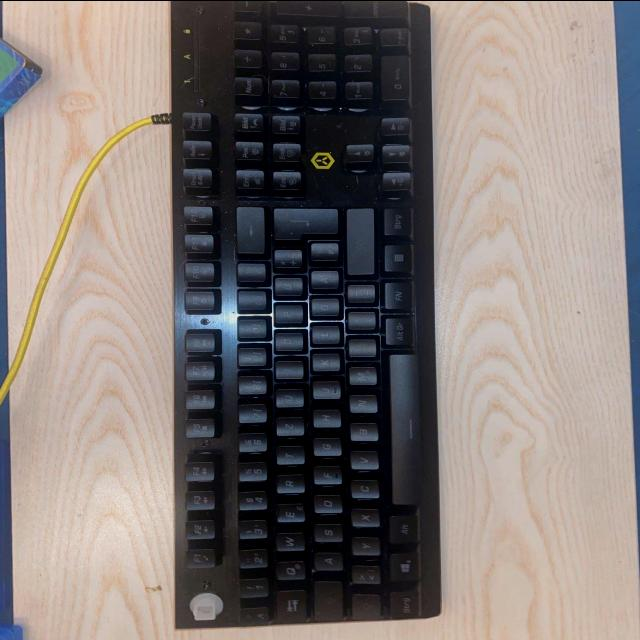0: (234, 317, 266, 341)
1: (235, 578, 267, 599)
2: (235, 549, 267, 570)
3: (234, 519, 266, 541)
4: (234, 490, 266, 512)
5: (234, 462, 266, 483)
6: (234, 432, 266, 454)
7: (234, 404, 266, 424)
8: (234, 375, 266, 397)
9: (234, 346, 265, 368)
a: (310, 553, 342, 573)
accent: (234, 264, 264, 284)
ae: (306, 271, 338, 292)
alt-left: (386, 515, 416, 545)
altgr-right: (381, 317, 413, 347)
b: (346, 423, 376, 443)
c: (347, 480, 377, 500)
caret: (236, 607, 268, 626)
comma: (344, 339, 376, 359)
d: (310, 495, 341, 515)
del: (232, 207, 264, 255)
e: (273, 504, 304, 525)
enter: (270, 208, 338, 242)
f: (310, 466, 340, 486)
g: (310, 438, 340, 458)
h: (309, 409, 339, 429)
hash: (307, 243, 337, 263)
i: (271, 361, 302, 381)
j: (308, 381, 340, 401)
k: (307, 353, 339, 373)
keyboard: (165, 0, 443, 633)
l: (306, 325, 338, 346)
less: (347, 566, 379, 586)
m: (345, 366, 375, 387)
minus: (342, 284, 374, 306)
n: (346, 395, 376, 415)
o: (271, 332, 302, 353)
oe: (306, 298, 338, 318)
p: (270, 304, 302, 326)
plus: (269, 250, 301, 272)
point: (343, 310, 375, 332)
q: (272, 562, 304, 582)
r: (273, 474, 303, 495)
s: (310, 524, 342, 544)
shift-left: (349, 595, 380, 622)
shift-lock: (312, 582, 342, 622)
shift-right: (343, 209, 373, 277)
space: (387, 353, 419, 507)
ss: (234, 290, 265, 312)
strg-left: (387, 591, 417, 620)
strg-right: (381, 208, 410, 239)
t: (273, 446, 303, 466)
tab: (274, 591, 308, 625)
u: (272, 389, 303, 409)
ue: (270, 277, 302, 299)
v: (347, 451, 377, 471)
w: (272, 533, 304, 553)
x: (348, 509, 378, 529)
y: (348, 537, 378, 557)
z: (273, 417, 303, 437)
